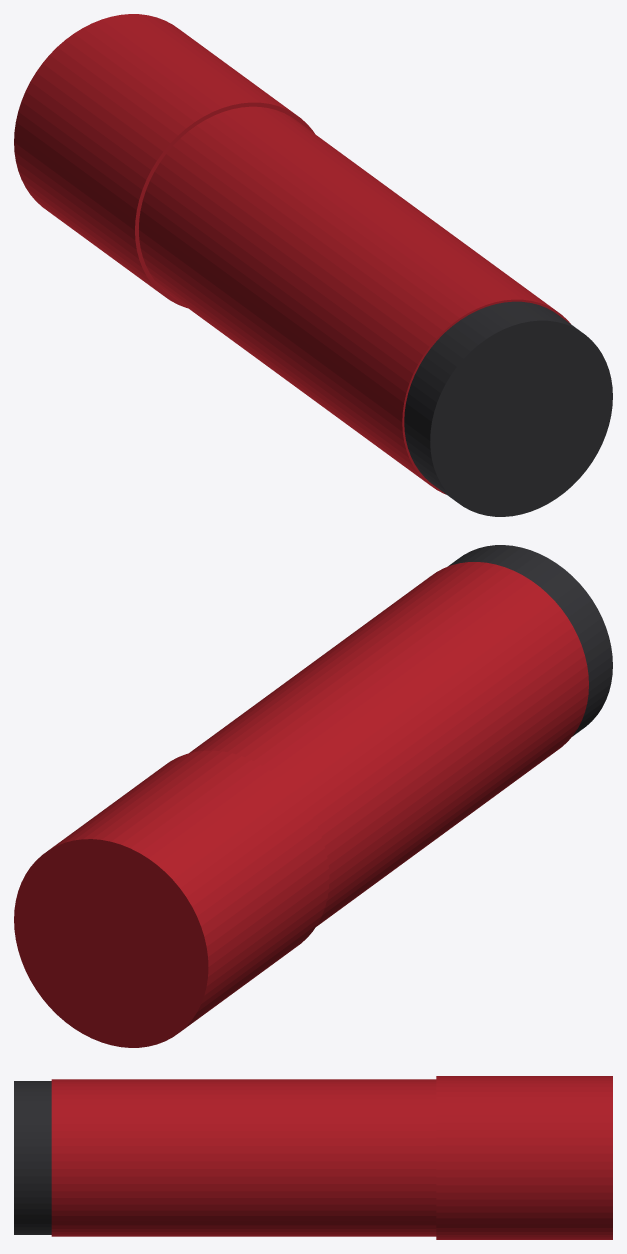
File: working.glb
The picture shows the model from 3 angles, top to bottom: view 1: azimuth 30°, elevation 25°; view 2: azimuth 150°, elevation 25°; view 3: azimuth 270°, elevation 25°; orthographic projection. The views are drawn at different scales.
Parts seen in each view (by area): view 1: Glue stick body, Closed cap, Twist base; view 2: Glue stick body, Closed cap, Twist base; view 3: Glue stick body, Closed cap, Twist base.
Part boxes in pixels (x1,y1,x2,y2): Glue stick body: (139, 106, 570, 494); Closed cap: (14, 14, 314, 308); Twist base: (404, 301, 612, 516); Glue stick body: (189, 562, 588, 926); Closed cap: (14, 750, 329, 1047); Twist base: (447, 545, 612, 736); Glue stick body: (51, 1079, 436, 1236); Closed cap: (436, 1076, 612, 1239); Twist base: (14, 1081, 51, 1234).
Size of the model in its own units: 0.026 by 0.026 by 0.095.
